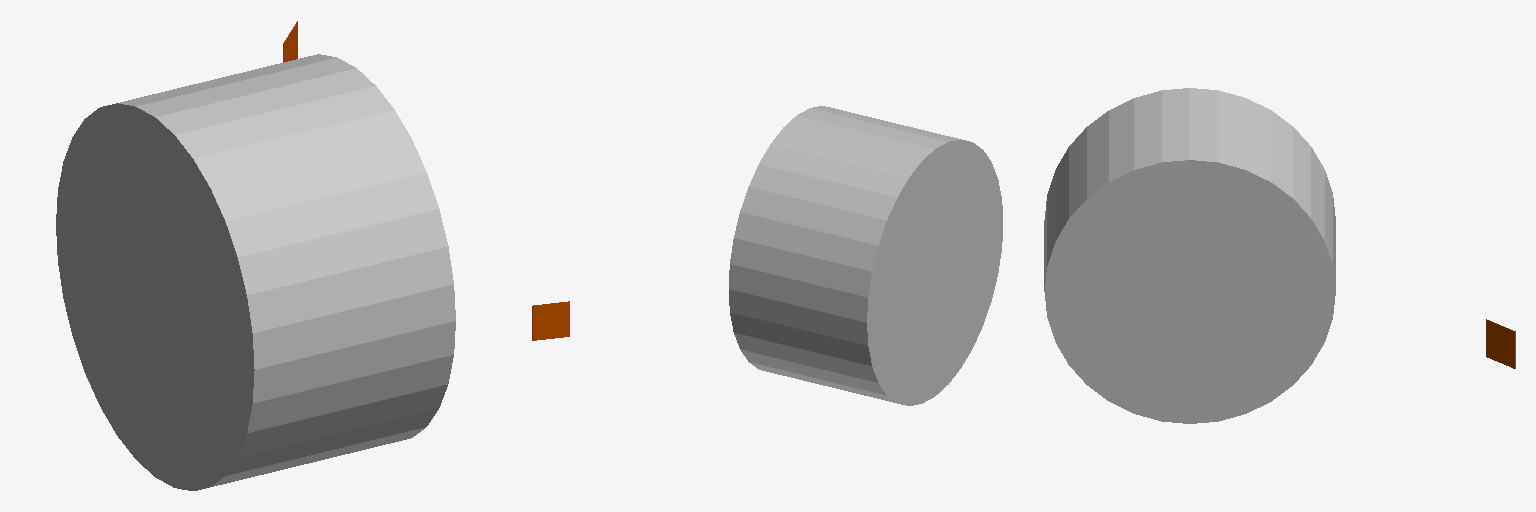
The robot description file, URDF, robot "Yaskawa_gp4":
<?xml version="1.0" ?>
<!-- =================================================================================== -->
<!-- |    This document was autogenerated by xacro from gp4.xacro                      | -->
<!-- |    EDITING THIS FILE BY HAND IS NOT RECOMMENDED                                 | -->
<!-- =================================================================================== -->
<robot name="Yaskawa_gp4">
  <link name="world"/>
  <joint name="world_fixed" type="fixed">
    <parent link="world"/>
    <child link="base"/>
  </joint>
  <!-- ROS-Industrial 'base' frame: base_link to gp4 World Coordinates transform -->
  <link name="base"/>
  <joint name="base_link-base" type="fixed">
    <origin rpy="0 0 0" xyz="0 0 0.0"/>
    <parent link="base"/>
    <child link="base_link"/>
  </joint>
  <!-- links: main serial chain -->
  <link name="base_link">
    <inertial>
      <origin rpy="0 0 0" xyz="-0.073983 0.00022734 0.13031"/>
      <mass value="42.212"/>
      <inertia ixx="0.64296" ixy="0.0012624" ixz="-0.068804" iyy="1.2709" iyz="-0.0010754" izz="1.3497"/>
    </inertial>
    <visual>
      <geometry>
        <mesh filename="file://[local-path]/ic_ws/src/Robot_Digital_Twin/meshes/gp4/base_link.stl"/>
      </geometry>
      <material name="">
        <color rgba="0.12941176470588237 0.14901960784313725 0.7490196078431373 1.0"/>
      </material>
    </visual>
    <collision>
      <geometry>
        <mesh filename="file://[local-path]/ic_ws/src/Robot_Digital_Twin/meshes/gp4/base_link.stl"/>
      </geometry>
    </collision>
  </link>
  <link name="link_1">
    <inertial>
      <origin rpy="0 0 0" xyz="0.058962 0.24363 -0.018725"/>
      <mass value="37.265"/>
      <inertia ixx="0.95018" ixy="-0.14402" ixz="-0.064915" iyy="1.0578" iyz="0.037699" izz="1.094"/>
    </inertial>
    <visual>
      <geometry>
        <mesh filename="file://[local-path]/ic_ws/src/Robot_Digital_Twin/meshes/gp4/link_1.stl"/>
      </geometry>
      <material name="">
        <color rgba="0.12941176470588237 0.14901960784313725 0.7490196078431373 1.0"/>
      </material>
    </visual>
    <collision>
      <geometry>
        <mesh filename="file://[local-path]/ic_ws/src/Robot_Digital_Twin/meshes/gp4/link_1.stl"/>
      </geometry>
    </collision>
  </link>
  <link name="link_2">
    <inertial>
      <origin rpy="0 0 0" xyz="3.5083E-05 0.39008 0.15036"/>
      <mass value="22.632"/>
      <inertia ixx="1.7745" ixy="-0.0054743" ixz="0.00063015" iyy="0.15511" iyz="-0.09224" izz="1.826"/>
    </inertial>
    <visual>
      <geometry>
        <mesh filename="file://[local-path]/ic_ws/src/Robot_Digital_Twin/meshes/gp4/link_2.stl"/>
      </geometry>
      <material name="">
        <color rgba="0.12941176470588237 0.14901960784313725 0.7490196078431373 1.0"/>
      </material>
    </visual>
    <collision>
      <geometry>
        <mesh filename="file://[local-path]/ic_ws/src/Robot_Digital_Twin/meshes/gp4/link_2.stl"/>
      </geometry>
    </collision>
  </link>
  <link name="link_3">
    <inertial>
      <origin rpy="0 0 0" xyz="0.086423 0.14427 -0.035793"/>
      <mass value="28.467"/>
      <inertia ixx="0.65771" ixy="-0.13627" ixz="-0.026219" iyy="0.52683" iyz="0.051956" izz="0.69722"/>
    </inertial>
    <visual>
      <geometry>
        <mesh filename="file://[local-path]/ic_ws/src/Robot_Digital_Twin/meshes/gp4/link_3.stl"/>
      </geometry>
      <material name="">
        <color rgba="0.12941176470588237 0.14901960784313725 0.7490196078431373 1.0"/>
      </material>
    </visual>
    <collision>
      <geometry>
        <mesh filename="file://[local-path]/ic_ws/src/Robot_Digital_Twin/meshes/gp4/link_3.stl"/>
      </geometry>
    </collision>
  </link>
  <link name="link_4">
    <inertial>
      <origin rpy="0 0 0" xyz="0.37337 0.00033491 0.012656"/>
      <mass value="7.629"/>
      <inertia ixx="0.018151" ixy="-0.00033527" ixz="-0.031589" iyy="0.48072" iyz="3.3917E-05" izz="0.47647"/>
    </inertial>
    <visual>
      <geometry>
        <mesh filename="file://[local-path]/ic_ws/src/Robot_Digital_Twin/meshes/gp4/link_4.stl"/>
      </geometry>
      <material name="">
        <color rgba="0.12941176470588237 0.14901960784313725 0.7490196078431373 1.0"/>
      </material>
    </visual>
    <collision>
      <geometry>
        <mesh filename="file://[local-path]/ic_ws/src/Robot_Digital_Twin/meshes/gp4/link_4.stl"/>
      </geometry>
    </collision>
  </link>
  <link name="link_5">
    <inertial>
      <origin rpy="0 0 0" xyz="0.062818 3.3289E-05 0.0048991"/>
      <mass value="2.5794"/>
      <inertia ixx="0.015161" ixy="-2.4835E-06" ixz="0.0016647" iyy="0.021382" iyz="-2.248E-06" izz="0.013473"/>
    </inertial>
    <visual>
      <geometry>
        <mesh filename="file://[local-path]/ic_ws/src/Robot_Digital_Twin/meshes/gp4/link_5.stl"/>
      </geometry>
      <material name="">
        <color rgba="0.12941176470588237 0.14901960784313725 0.7490196078431373 1.0"/>
      </material>
    </visual>
    <collision>
      <geometry>
        <mesh filename="file://[local-path]/ic_ws/src/Robot_Digital_Twin/meshes/gp4/link_5.stl"/>
      </geometry>
    </collision>
  </link>
  <link name="link_6">
    <inertial>
      <origin rpy="0 0 0" xyz="0.00015982 -0.00063018 -0.008266"/>
      <mass value="0.10811"/>
      <inertia ixx="9.0129E-05" ixy="-1.0891E-08" ixz="9.1598E-09" iyy="9.2026E-05" iyz="-2.749E-07" izz="0.00017818"/>
    </inertial>
    <visual>
      <geometry>
        <mesh filename="file://[local-path]/ic_ws/src/Robot_Digital_Twin/meshes/gp4/link_6.stl"/>
      </geometry>
      <material name="">
        <color rgba="0.8 0.8 0.8 1"/>
      </material>
    </visual>
    <collision>
      <geometry>
        <mesh filename="file://[local-path]/ic_ws/src/Robot_Digital_Twin/meshes/gp4/link_6.stl"/>
      </geometry>
    </collision>
  </link>
  <link name="fts">
    <collision>
      <origin rpy=" 0 0 0" xyz="0 0 0"/>
      <geometry>
        <cylinder length="0.041" radius="0.035"/>
      </geometry>
    </collision>
    <visual>
      <origin rpy="0 0 0" xyz="0 0 0"/>
      <geometry>
        <cylinder length="0.041" radius="0.035"/>
      </geometry>
      <material name="">
        <color rgba="0.8 0.8 0.8 1"/>
      </material>
    </visual>
    <inertial>
      <mass value="1e-5"/>
      <origin rpy="0 0 0" xyz="0 0 0"/>
      <inertia ixx="1e-6" ixy="0" ixz="0" iyy="1e-6" iyz="0" izz="1e-6"/>
    </inertial>
  </link>
  <link name="link_tool">
    <inertial>
      <origin rpy="0 0 0" xyz="0 0 0"/>
      <mass value="0.10811"/>
      <inertia ixx="9.0129E-05" ixy="-1.0891E-08" ixz="9.1598E-09" iyy="9.2026E-05" iyz="-2.749E-07" izz="0.00017818"/>
    </inertial>
    <visual>
      <origin rpy="0 0 0" xyz="0 0 0"/>
      <geometry>
        <mesh filename="file://[local-path]/ic_ws/src/Robot_Digital_Twin/meshes/eoat/tool_base_tilt.stl"/>
      </geometry>
      <material name="">
        <color rgba="0.8 0.8 0.8 1"/>
      </material>
    </visual>
  </link>
  <link name="link_precam">
    <inertial>
      <mass value="1e-5"/>
      <origin rpy="0 0 0" xyz="0 0 0"/>
      <inertia ixx="1e-6" ixy="0" ixz="0" iyy="1e-6" iyz="0" izz="1e-6"/>
    </inertial>
  </link>
  <link name="link_camera">
    <inertial>
      <origin rpy="0 0 0" xyz="0 0 0"/>
      <mass value="0.10811"/>
      <inertia ixx="9.0129E-05" ixy="-1.0891E-08" ixz="9.1598E-09" iyy="9.2026E-05" iyz="-2.749E-07" izz="0.00017818"/>
    </inertial>
    <visual>
      <origin rpy="0 0 0" xyz="0 0 0"/>
      <geometry>
        <mesh filename="file://[local-path]/ic_ws/src/Robot_Digital_Twin/meshes/eoat/tool_camera.stl"/>
      </geometry>
      <material name="">
        <color rgba="0.15 0.15 0.15 1.0"/>
      </material>
    </visual>
    <collision>
      <origin rpy="0 0 0" xyz="0 0 0"/>
      <geometry>
        <mesh filename="file://[local-path]/ic_ws/src/Robot_Digital_Twin/meshes/eoat/tool_camera.stl"/>
      </geometry>
    </collision>
  </link>
  <link name="link_camera_origin">
    <collision>
      <origin rpy="0 0 0" xyz="0 0 0"/>
      <geometry>
        <box size="0.0001 0.0001 0.0001"/>
      </geometry>
    </collision>
    <visual>
      <origin rpy="0 0 0" xyz="0 0 0"/>
      <geometry>
        <box size="0.0001 0.01 0.01"/>
      </geometry>
    </visual>
    <inertial>
      <mass value="1e-5"/>
      <origin rpy="0 0 0" xyz="0 0 0"/>
      <inertia ixx="1e-6" ixy="0" ixz="0" iyy="1e-6" iyz="0" izz="1e-6"/>
    </inertial>
  </link>
  <!-- joints: main serial chain -->
  <joint name="joint_1" type="continuous">
    <parent link="base_link"/>
    <child link="link_1"/>
    <origin rpy="0 0 0" xyz="0 0 0.330"/>
    <axis xyz="0 0 1"/>
    <!-- <limit lower="${radians(-170)}" upper="${radians(170)}" effort="220.5" velocity="${radians(465)}"/> -->
    <!-- <limit effort="0" lower="${radians(-170)}" upper="${radians(170)}" velocity="${radians(370)}" /> -->
  </joint>
  <joint name="joint_2" type="continuous">
    <parent link="link_1"/>
    <child link="link_2"/>
    <origin rpy="0 0 0" xyz="0 0 0"/>
    <axis xyz="0 1 0"/>
    <!-- <limit effort="100" lower="${radians(-100)}" upper="${radians(145)}" velocity="${radians(310)}" /> -->
  </joint>
  <joint name="joint_3" type="continuous">
    <parent link="link_2"/>
    <child link="link_3"/>
    <origin rpy="0 0 0" xyz="0 0 0.260"/>
    <axis xyz="0 -1 0"/>
    <!-- <limit effort="0" lower="${radians(-70)}" upper="${radians(213)}" velocity="${radians(410)}" /> -->
  </joint>
  <joint name="joint_4" type="continuous">
    <parent link="link_3"/>
    <child link="link_4"/>
    <origin rpy="0 0 0" xyz="0.290 0 0.015"/>
    <axis xyz="-1 0 0"/>
    <!-- <limit effort="0" lower="${radians(-190)}" upper="${radians(190)}" velocity="${radians(550)}" /> -->
  </joint>
  <joint name="joint_5" type="continuous">
    <parent link="link_4"/>
    <child link="link_5"/>
    <origin rpy="0 0 0" xyz="0 0 0"/>
    <axis xyz="0 -1 0"/>
    <!-- <limit effort="0" lower="${radians(-125)}" upper="${radians(125)}" velocity="${radians(545)}" /> -->
  </joint>
  <joint name="joint_6" type="continuous">
    <parent link="link_5"/>
    <child link="link_6"/>
    <origin rpy="0 0 0" xyz="0 0 0"/>
    <axis xyz="-1 0 0"/>
    <!-- <limit effort="0" lower="${radians(-360)}" upper="${radians(360)}" velocity="${radians(1000)}" /> -->
  </joint>
  <link name="flange"/>
  <joint name="joint_6_t-flange" type="fixed">
    <origin rpy="0 0 0" xyz="0.072 0 0"/>
    <parent link="link_6"/>
    <child link="flange"/>
  </joint>
  <joint name="link_6_fts" type="fixed">
    <origin rpy="0 1.5707963267948966 0" xyz="0.02525 0 0"/>
    <parent link="flange"/>
    <child link="fts"/>
  </joint>
  <joint name="fts_tool" type="revolute">
    <origin rpy="0 0 3.141592653589793" xyz="0 0 0.02525"/>
    <parent link="fts"/>
    <child link="link_tool"/>
    <axis xyz="0 0 1"/>
    <limit effort="0" lower="0" upper="0" velocity="0"/>
  </joint>
  <joint name="tool_precam" type="fixed">
    <origin rpy="1.5707963267948966 -1.5707963267948966  0" xyz="0 -0.062194148 -0.005909903"/>
    <parent link="link_tool"/>
    <child link="link_precam"/>
  </joint>
  <joint name="precam_camera" type="fixed">
    <origin rpy="0 0.7853981633974483 0" xyz="0 0 0"/>
    <parent link="link_precam"/>
    <child link="link_camera"/>
  </joint>
  <joint name="camera_imgplane" type="fixed">
    <origin rpy="0 0 0" xyz="0.013 0.0 0.0305"/>
    <parent link="link_camera"/>
    <child link="link_camera_origin"/>
  </joint>
  <transmission name="trans_joint_1">
    <type>transmission_interface/SimpleTransmission</type>
    <joint name="joint_1">
      <hardwareInterface>hardware_interface/PositionJointInterface</hardwareInterface>
    </joint>
    <actuator name="joint_1_motor">
      <hardwareInterface>hardware_interface/PositionJointInterface</hardwareInterface>
      <mechanicalReduction>1</mechanicalReduction>
    </actuator>
  </transmission>
  <transmission name="trans_joint_2">
    <type>transmission_interface/SimpleTransmission</type>
    <joint name="joint_2">
      <hardwareInterface>hardware_interface/PositionJointInterface</hardwareInterface>
    </joint>
    <actuator name="joint_2_motor">
      <hardwareInterface>hardware_interface/PositionJointInterface</hardwareInterface>
      <mechanicalReduction>1</mechanicalReduction>
    </actuator>
  </transmission>
  <transmission name="trans_joint_3">
    <type>transmission_interface/SimpleTransmission</type>
    <joint name="joint_3">
      <hardwareInterface>hardware_interface/PositionJointInterface</hardwareInterface>
    </joint>
    <actuator name="joint_3_motor">
      <hardwareInterface>hardware_interface/PositionJointInterface</hardwareInterface>
      <mechanicalReduction>1</mechanicalReduction>
    </actuator>
  </transmission>
  <transmission name="trans_joint_4">
    <type>transmission_interface/SimpleTransmission</type>
    <joint name="joint_4">
      <hardwareInterface>hardware_interface/PositionJointInterface</hardwareInterface>
    </joint>
    <actuator name="joint_4_motor">
      <hardwareInterface>hardware_interface/PositionJointInterface</hardwareInterface>
      <mechanicalReduction>1</mechanicalReduction>
    </actuator>
  </transmission>
  <transmission name="trans_joint_5">
    <type>transmission_interface/SimpleTransmission</type>
    <joint name="joint_5">
      <hardwareInterface>hardware_interface/PositionJointInterface</hardwareInterface>
    </joint>
    <actuator name="joint_5_motor">
      <hardwareInterface>hardware_interface/PositionJointInterface</hardwareInterface>
      <mechanicalReduction>1</mechanicalReduction>
    </actuator>
  </transmission>
  <transmission name="trans_joint_6">
    <type>transmission_interface/SimpleTransmission</type>
    <joint name="joint_6">
      <hardwareInterface>hardware_interface/PositionJointInterface</hardwareInterface>
    </joint>
    <actuator name="joint_6_motor">
      <hardwareInterface>hardware_interface/PositionJointInterface</hardwareInterface>
      <mechanicalReduction>1</mechanicalReduction>
    </actuator>
  </transmission>
  <gazebo>
    <plugin filename="libgazebo_ros_control.so" name="gazebo_ros_control">
      <!-- <robotNamespace>/gp4_gazebo</robotNamespace> -->
      <robotSimType>gazebo_ros_control/DefaultRobotHWSim</robotSimType>
      <legacyModeNS>true</legacyModeNS>
    </plugin>
  </gazebo>
  <gazebo reference="fts_tool">
    <provideFeedback>true</provideFeedback>
  </gazebo>
  <gazebo>
    <provideFeedback>true</provideFeedback>
    <plugin filename="libgazebo_ros_ft_sensor.so" name="ft_sensor">
      <!-- <robotNamespace>/gp4_gazebo</robotNamespace> -->
      <alwaysOn> true </alwaysOn>
      <updateRate>125.0</updateRate>
      <topicName>ft_sensor</topicName>
      <jointName>fts_tool</jointName>
      <noise>
        <type>gaussian</type>
        <mean>0.0</mean>
        <stddev>0.001</stddev>
      </noise>
    </plugin>
  </gazebo>
  <gazebo reference="link_camera_origin">
    <sensor name="$depth_camera" type="depth">
      <update_rate>30</update_rate>
      <camera>
        <horizontal_fov>1.22173</horizontal_fov>
        <!-- 70deg -->
        <image>
          <width>1920</width>
          <height>1080</height>
          <format>R8G8B8</format>
        </image>
        <clip>
          <near>0.005</near>
          <far>2</far>
        </clip>
      </camera>
      <plugin filename="libgazebo_ros_openni_kinect.so" name="$depth_camera_controller">
        <baseline>0.2</baseline>
        <alwaysOn>true</alwaysOn>
        <updateRate>0</updateRate>
        <cameraName>wrist_camera</cameraName>
        <frameName>depth_camera_link</frameName>
        <pointCloudCutoff>0.005</pointCloudCutoff>
        <pointCloudCutoffMax>2.0</pointCloudCutoffMax>
        <distortionK1>0</distortionK1>
        <distortionK2>0</distortionK2>
        <distortionK3>0</distortionK3>
        <distortionT1>0</distortionT1>
        <distortionT2>0</distortionT2>
        <CxPrime>0</CxPrime>
        <Cx>0</Cx>
        <Cy>0</Cy>
        <focalLength>0</focalLength>
        <hackBaseline>0</hackBaseline>
      </plugin>
    </sensor>
  </gazebo>
  <gazebo reference="base">
    <material>Gazebo/Blue</material>
    <visual>
      <transparency> 0 </transparency>
    </visual>
  </gazebo>
  <gazebo reference="base_link">
    <material>Gazebo/Blue</material>
    <visual>
      <transparency> 0 </transparency>
    </visual>
  </gazebo>
  <gazebo reference="link_1">
    <material>Gazebo/Blue</material>
    <visual>
      <transparency> 0 </transparency>
    </visual>
  </gazebo>
  <gazebo reference="link_2">
    <material>Gazebo/Blue</material>
    <visual>
      <transparency> 0 </transparency>
    </visual>
  </gazebo>
  <gazebo reference="link_3">
    <material>Gazebo/Blue</material>
    <visual>
      <transparency> 0 </transparency>
    </visual>
  </gazebo>
  <gazebo reference="link_4">
    <material>Gazebo/Blue</material>
    <visual>
      <transparency> 0 </transparency>
    </visual>
  </gazebo>
  <gazebo reference="link_5">
    <material>Gazebo/Blue</material>
    <visual>
      <transparency> 0 </transparency>
    </visual>
  </gazebo>
  <gazebo reference="link_6">
    <material>Gazebo/Black</material>
    <visual>
      <transparency> 0 </transparency>
    </visual>
  </gazebo>
  <gazebo reference="link_tool0">
    <material>Gazebo/Black</material>
    <visual>
      <transparency> 0 </transparency>
    </visual>
  </gazebo>
  <gazebo reference="fts">
    <material>Gazebo/Black</material>
    <visual>
      <transparency> 0 </transparency>
    </visual>
  </gazebo>
  <gazebo reference="link_camera_origin">
    <material>Gazebo/Black</material>
    <visual>
      <transparency> 0 </transparency>
    </visual>
  </gazebo>
</robot>

--- What the picture shows (computed from the rendered views, not written in the file) ---
The picture shows the robot from 3 angles, left to right: view 1: azimuth 30°, elevation 25°; view 2: azimuth 150°, elevation 25°; view 3: azimuth 270°, elevation 25°; orthographic projection.
Robot: Yaskawa_gp4 — 15 links, 14 joints (1 revolute, 6 continuous, 7 fixed); root link world; default pose: every joint at zero.
Links seen in each view (by area): view 1: fts; view 2: fts, link_camera_origin; view 3: fts, link_camera_origin.
Boxes of the visible links, box(x1,y1,x2,y2) form: fts: box(56, 54, 455, 490); fts: box(729, 106, 1002, 405); link_camera_origin: box(532, 301, 569, 340); fts: box(1044, 88, 1335, 423); link_camera_origin: box(1486, 319, 1515, 368).
Bounding box of the posed robot: 0.0742 × 0.1131 × 0.07 m (x, y, z).
Geometry: only primitive shapes (box / cylinder / sphere) drawn; not drawn: 9 mesh visuals (reference in a form the renderer does not follow).